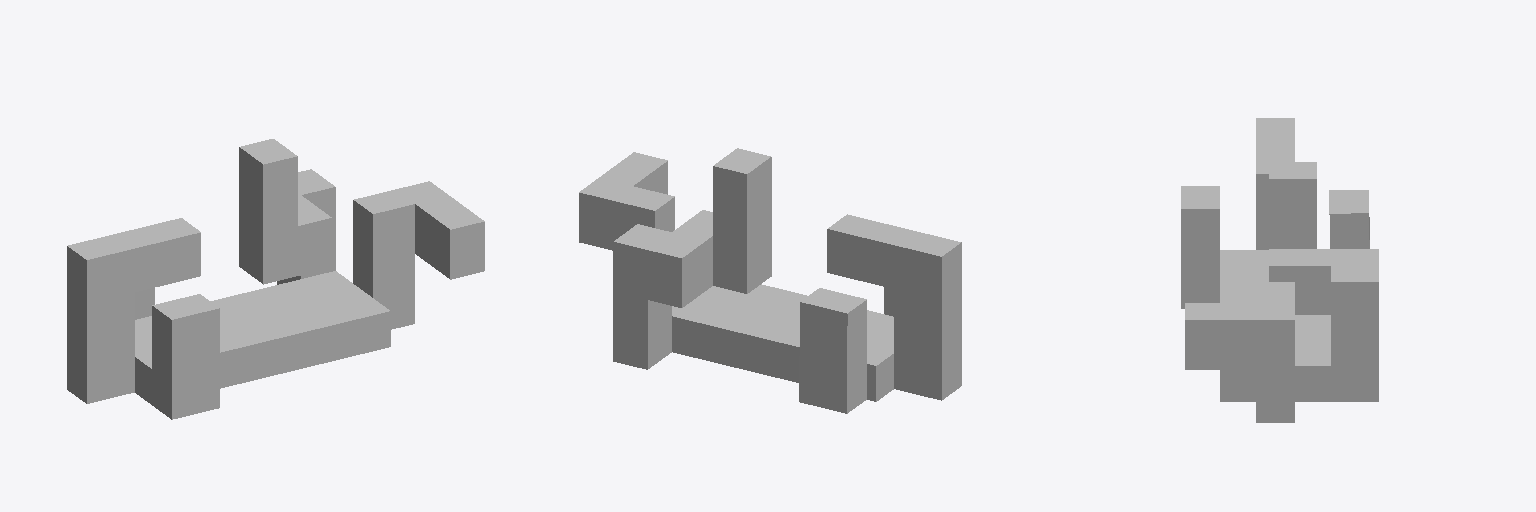
Rendered from Distractor_10.obj.
3 views of the same model, side by side, from view 1: azimuth 30°, elevation 25°; view 2: azimuth 150°, elevation 25°; view 3: azimuth 270°, elevation 25° (orthographic).
Visible parts, largest first — view 1: mesh_1_Thick-2.001; view 2: mesh_1_Thick-2.001; view 3: mesh_1_Thick-2.001.
Part boxes in pixels (x1,y1,x2,y2): mesh_1_Thick-2.001: (67,139,484,419); mesh_1_Thick-2.001: (579,148,961,413); mesh_1_Thick-2.001: (1181,118,1378,422).
Size of the model in its own units: 0.19 by 0.095 by 0.09.